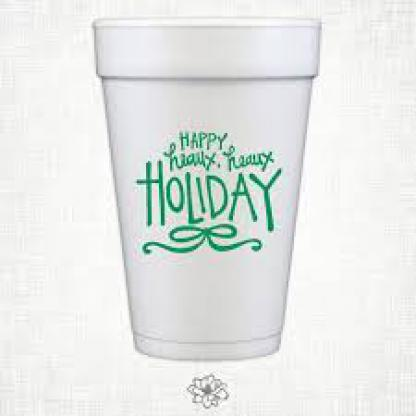paper: (89, 15, 322, 357)
